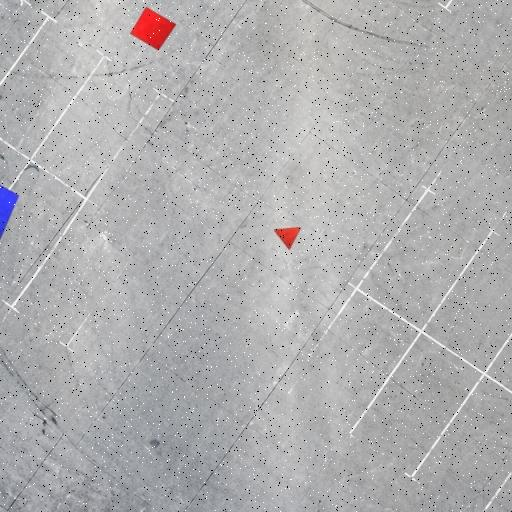RED_SQUARE: (128, 6, 178, 52)
